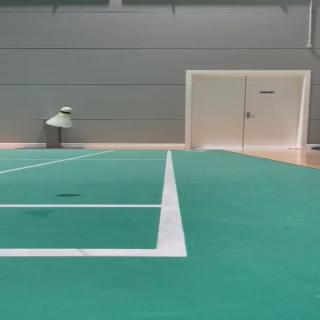Shuttle: (45, 106, 74, 128)
